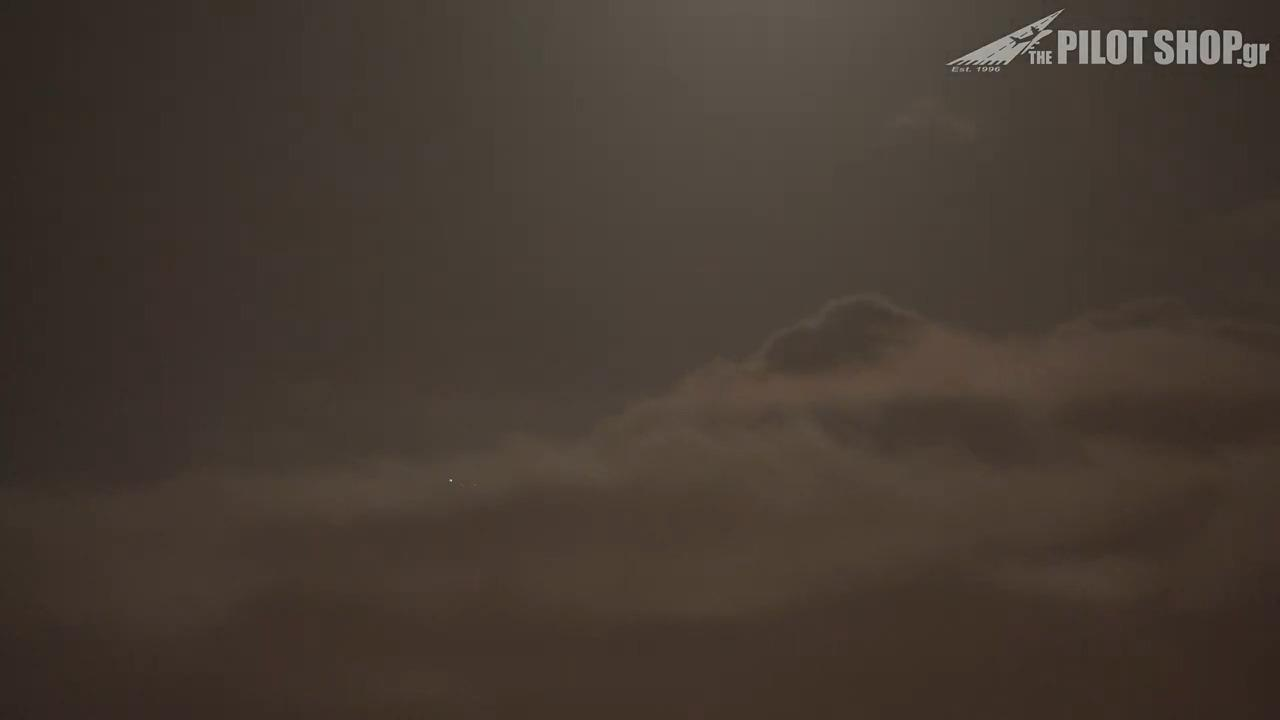Plane: (437, 471, 484, 495)
